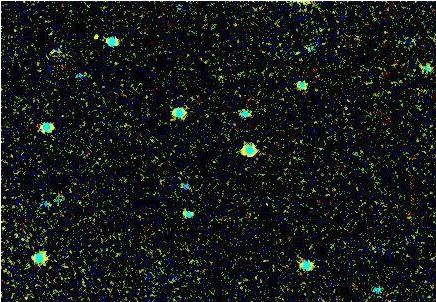star: (72, 21, 102, 51)
